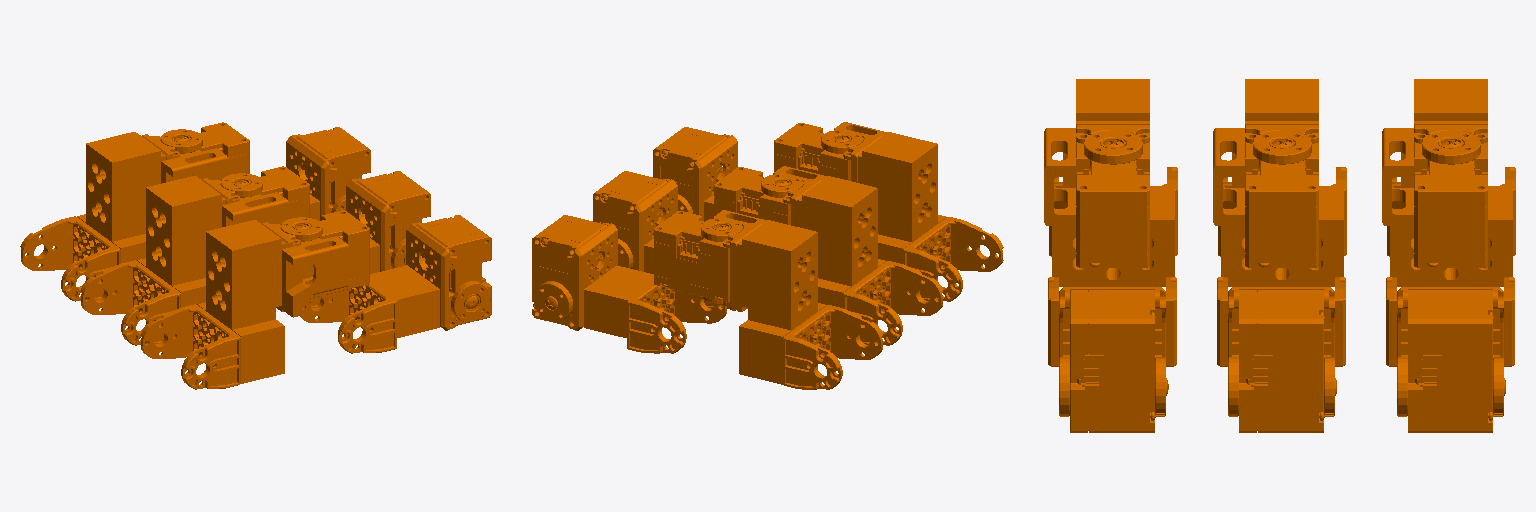
The robot description file, URDF, robot "onshape":
<robot name="onshape">
  <link name="palm_lower">
    <inertial>
      <origin xyz="0.0 0.0 0.0" rpy="0.0 -0.0 0.0"/>
      <mass value="0.237"/>
      <inertia ixx="0.000354094" ixy="-1.193e-06" ixz="-2.445e-06" iyy="0.000260915" iyz="-2.905e-06" izz="0.000529257"/>
    </inertial>
    <visual>
      <geometry>
        <mesh filename="../assets/leap/leap_hand/palm_lower.stl"/>
      </geometry>
      <origin xyz="-0.020095249652862544 0.025757756134899473 -0.034722403578460216" rpy="0.0 -0.0 0.0"/>
      <material name="palm_lower_material">
        <color rgba="0.6039215686274509 0.14901960784313725 0.14901960784313725 1.0"/>
      </material>
    </visual>
    <collision>
      <geometry>
        <mesh filename="../assets/leap/leap_hand/palm_lower.stl"/>
      </geometry>
      <origin xyz="-0.020095249652862544 0.025757756134899473 -0.034722403578460216" rpy="0.0 -0.0 0.0"/>
    </collision>
  </link>
  <link name="mcp_joint_long">
    <inertial>
      <origin xyz="0.0 0.0 0.0" rpy="0.0 -0.0 0.0"/>
      <mass value="0.044"/>
      <inertia ixx="1.1499e-05" ixy="3.049e-06" ixz="1.21e-07" iyy="7.796e-06" iyz="1.12e-07" izz="1.4759e-05"/>
    </inertial>
    <visual>
      <geometry>
        <mesh filename="custom_models/mcp_joint_long.stl"/>
      </geometry>
      <origin xyz="0.008406902261174496 0.0077662438597169954 0.014657354985032912" rpy="1.6375789613221e-15 -1.021047330249102e-30 1.7177968783327987e-31"/>
      <material name="mcp_joint_material">
        <color rgba="0.878 0.467 0.0 1.0"/>
      </material>
    </visual>
    <collision>
      <geometry>
        <mesh filename="custom_models/mcp_joint_long.stl"/>
      </geometry>
      <origin xyz="0.008406902261174496 0.0077662438597169954 0.014657354985032912" rpy="1.6375789613221e-15 -1.021047330249102e-30 1.7177968783327987e-31"/>
    </collision>
  </link>
  <link name="pip">
    <inertial>
      <origin xyz="0.0 0.0 0.0" rpy="0.0 -0.0 0.0"/>
      <mass value="0.032"/>
      <inertia ixx="4.798e-06" ixy="1.2e-08" ixz="4e-09" iyy="2.862e-06" iyz="1.1e-08" izz="4.234e-06"/>
    </inertial>
    <visual>
      <geometry>
        <mesh filename="../assets/leap/leap_hand/pip.stl"/>
      </geometry>
      <origin xyz="0.009643363092271328 0.0002999999999999895 0.0007840340104173765" rpy="-1.5707963267948966 -1.5707963267948963 0.0"/>
      <material name="pip_material">
        <color rgba="0.7490196078431373 0.7490196078431373 0.7490196078431373 1.0"/>
      </material>
    </visual>
    <collision>
      <geometry>
        <mesh filename="../assets/leap/leap_hand/pip.stl"/>
      </geometry>
      <origin xyz="0.009643363092271328 0.0002999999999999895 0.0007840340104173765" rpy="-1.5707963267948966 -1.5707963267948963 0.0"/>
    </collision>
  </link>
  <link name="dip_long">
    <inertial>
      <origin xyz="0.0 0.0 0.0" rpy="0.0 -0.0 0.0"/>
      <mass value="0.037"/>
      <inertia ixx="5.542e-06" ixy="-6.07e-07" ixz="-1.7e-08" iyy="5.727e-06" iyz="-2.3e-08" izz="6.682e-06"/>
    </inertial>
    <visual>
      <geometry>
        <mesh filename="custom_models/dip_long.stl"/>
      </geometry>
      <origin xyz="0.021133352895225003 -0.00843211914670488 0.00978508816209524" rpy="-3.141592653589793 4.507511124216441e-32 4.439548105392361e-32"/>
      <material name="dip_material">
        <color rgba="0.878 0.467 0.0 1.0"/>
      </material>
    </visual>
    <collision>
      <geometry>
        <mesh filename="custom_models/dip_long.stl"/>
      </geometry>
      <origin xyz="0.021133352895225003 -0.00843211914670488 0.00978508816209524" rpy="-3.141592653589793 4.507511124216441e-32 4.439548105392361e-32"/>
    </collision>
  </link>
  <link name="fingertip">
    <inertial>
      <origin xyz="0.0 0.0 0.0" rpy="0.0 -0.0 0.0"/>
      <mass value="0.016"/>
      <inertia ixx="3.368e-06" ixy="1.15e-07" ixz="0.0" iyy="1.556e-06" iyz="0.0" izz="2.863e-06"/>
    </inertial>
    <visual>
      <geometry>
        <mesh filename="../assets/leap/leap_hand/fingertip.stl"/>
      </geometry>
      <origin xyz="0.013286424108533503 -0.006114238386541987 0.014499999999999498" rpy="3.141592653589793 1.1993117970061735e-33 4.439548105392361e-32"/>
      <material name="fingertip_material">
        <color rgba="0.8666666666666667 0.8666666666666667 0.050980392156862744 1.0"/>
      </material>
    </visual>
    <collision>
      <geometry>
        <mesh filename="../assets/leap/leap_hand/fingertip.stl"/>
      </geometry>
      <origin xyz="0.013286424108533503 -0.006114238386541987 0.014499999999999498" rpy="3.141592653589793 1.1993117970061735e-33 4.439548105392361e-32"/>
    </collision>
  </link>
  <link name="pip_4">
    <inertial>
      <origin xyz="0.0 0.0 0.0" rpy="0.0 -0.0 0.0"/>
      <mass value="0.032"/>
      <inertia ixx="4.798e-06" ixy="1.2e-08" ixz="4e-09" iyy="2.862e-06" iyz="1.1e-08" izz="4.234e-06"/>
    </inertial>
    <visual>
      <geometry>
        <mesh filename="../assets/leap/leap_hand/pip.stl"/>
      </geometry>
      <origin xyz="-0.005356636907728671 0.0002999999999999999 0.0007840340104173782" rpy="-1.5707963267948966 -1.5707963267948963 0.0"/>
      <material name="pip_material">
        <color rgba="0.7490196078431373 0.7490196078431373 0.7490196078431373 1.0"/>
      </material>
    </visual>
    <collision>
      <geometry>
        <mesh filename="../assets/leap/leap_hand/pip.stl"/>
      </geometry>
      <origin xyz="-0.005356636907728671 0.0002999999999999999 0.0007840340104173782" rpy="-1.5707963267948966 -1.5707963267948963 0.0"/>
    </collision>
  </link>
  <link name="thumb_pip">
    <inertial>
      <origin xyz="0.0 0.0 0.0" rpy="0.0 -0.0 0.0"/>
      <mass value="0.003"/>
      <inertia ixx="5.93e-07" ixy="0.0" ixz="0.0" iyy="5.49e-07" iyz="0.0" izz="2.24e-07"/>
    </inertial>
    <visual>
      <geometry>
        <mesh filename="../assets/leap/leap_hand/thumb_pip.stl"/>
      </geometry>
      <origin xyz="0.011961920770611187 -5.30825383648903e-16 -0.0158526489566642" rpy="1.5707963267948966 1.6050198443300153e-46 -3.9204996250525193e-59"/>
      <material name="thumb_pip_material">
        <color rgba="0.8666666666666667 0.8666666666666667 0.050980392156862744 1.0"/>
      </material>
    </visual>
    <collision>
      <geometry>
        <mesh filename="../assets/leap/leap_hand/thumb_pip.stl"/>
      </geometry>
      <origin xyz="0.011961920770611187 -5.30825383648903e-16 -0.0158526489566642" rpy="1.5707963267948966 1.6050198443300153e-46 -3.9204996250525193e-59"/>
    </collision>
  </link>
  <link name="thumb_dip">
    <inertial>
      <origin xyz="0.0 0.0 0.0" rpy="0.0 -0.0 0.0"/>
      <mass value="0.038"/>
      <inertia ixx="8.474e-06" ixy="2.41e-07" ixz="2.6e-08" iyy="3.841e-06" iyz="2.5e-08" izz="7.679e-06"/>
    </inertial>
    <visual>
      <geometry>
        <mesh filename="../assets/leap/leap_hand/thumb_dip.stl"/>
      </geometry>
      <origin xyz="0.043968715707239175 0.0579529529737092 -0.008628676449369476" rpy="1.94289029309401e-16 3.27515792264422e-15 1.112375852965736e-46"/>
      <material name="thumb_dip_material">
        <color rgba="0.8666666666666667 0.8666666666666667 0.050980392156862744 1.0"/>
      </material>
    </visual>
    <collision>
      <geometry>
        <mesh filename="../assets/leap/leap_hand/thumb_dip.stl"/>
      </geometry>
      <origin xyz="0.043968715707239175 0.0579529529737092 -0.008628676449369476" rpy="1.94289029309401e-16 3.27515792264422e-15 1.112375852965736e-46"/>
    </collision>
  </link>
  <link name="thumb_fingertip">
    <inertial>
      <origin xyz="0.0 0.0 0.0" rpy="0.0 -0.0 0.0"/>
      <mass value="0.049"/>
      <inertia ixx="2.0372e-05" ixy="-4.89e-07" ixz="-3e-08" iyy="4.336e-06" iyz="-9.7e-08" izz="1.9845e-05"/>
    </inertial>
    <visual>
      <geometry>
        <mesh filename="../assets/leap/leap_hand/thumb_fingertip.stl"/>
      </geometry>
      <origin xyz="0.06255953846266739 0.07845968291139699 0.048992911807332215" rpy="4.379057701015637e-47 -3.33066907387547e-16 1.2042408677791935e-46"/>
      <material name="thumb_fingertip_material">
        <color rgba="0.6039215686274509 0.14901960784313725 0.14901960784313725 1.0"/>
      </material>
    </visual>
    <collision>
      <geometry>
        <mesh filename="../assets/leap/leap_hand/thumb_fingertip.stl"/>
      </geometry>
      <origin xyz="0.06255953846266739 0.07845968291139699 0.048992911807332215" rpy="4.379057701015637e-47 -3.33066907387547e-16 1.2042408677791935e-46"/>
    </collision>
  </link>
  <link name="mcp_joint_2_long">
    <inertial>
      <origin xyz="0.0 0.0 0.0" rpy="0.0 -0.0 0.0"/>
      <mass value="0.044"/>
      <inertia ixx="1.1499e-05" ixy="3.049e-06" ixz="1.21e-07" iyy="7.796e-06" iyz="1.12e-07" izz="1.4759e-05"/>
    </inertial>
    <visual>
      <geometry>
        <mesh filename="custom_models/mcp_joint_long.stl"/>
      </geometry>
      <origin xyz="0.008406902261174496 0.0077662438597169954 0.014657354985032914" rpy="1.6375789613221e-15 -1.0076465469034e-30 2.1209300131419907e-61"/>
      <material name="mcp_joint_material">
        <color rgba="0.878 0.467 0.0 1.0"/>
      </material>
    </visual>
    <collision>
      <geometry>
        <mesh filename="custom_models/mcp_joint_long.stl"/>
      </geometry>
      <origin xyz="0.008406902261174496 0.0077662438597169954 0.014657354985032914" rpy="1.6375789613221e-15 -1.0076465469034e-30 2.1209300131419907e-61"/>
    </collision>
  </link>
  <link name="pip_2">
    <inertial>
      <origin xyz="0.0 0.0 0.0" rpy="0.0 -0.0 0.0"/>
      <mass value="0.032"/>
      <inertia ixx="4.798e-06" ixy="1.2e-08" ixz="4e-09" iyy="2.862e-06" iyz="1.1e-08" izz="4.234e-06"/>
    </inertial>
    <visual>
      <geometry>
        <mesh filename="../assets/leap/leap_hand/pip.stl"/>
      </geometry>
      <origin xyz="0.009643363092271328 0.0002999999999999947 0.0007840340104173765" rpy="-1.5707963267948966 -1.5707963267948963 0.0"/>
      <material name="pip_material">
        <color rgba="0.7490196078431373 0.7490196078431373 0.7490196078431373 1.0"/>
      </material>
    </visual>
    <collision>
      <geometry>
        <mesh filename="../assets/leap/leap_hand/pip.stl"/>
      </geometry>
      <origin xyz="0.009643363092271328 0.0002999999999999947 0.0007840340104173765" rpy="-1.5707963267948966 -1.5707963267948963 0.0"/>
    </collision>
  </link>
  <link name="dip_2_long">
    <inertial>
      <origin xyz="0.0 0.0 0.0" rpy="0.0 -0.0 0.0"/>
      <mass value="0.037"/>
      <inertia ixx="5.542e-06" ixy="-6.07e-07" ixz="-1.7e-08" iyy="5.727e-06" iyz="-2.3e-08" izz="6.682e-06"/>
    </inertial>
    <visual>
      <geometry>
        <mesh filename="custom_models/dip_long.stl"/>
      </geometry>
      <origin xyz="0.021133352895225003 -0.008432119146704865 0.009785088162095237" rpy="-3.141592653589793 2.1146933785271956e-32 1.4408183216511869e-31"/>
      <material name="dip_material">
        <color rgba="0.878 0.467 0.0 1.0"/>
      </material>
    </visual>
    <collision>
      <geometry>
        <mesh filename="custom_models/dip_long.stl"/>
      </geometry>
      <origin xyz="0.021133352895225003 -0.008432119146704865 0.009785088162095237" rpy="-3.141592653589793 2.1146933785271956e-32 1.4408183216511869e-31"/>
    </collision>
  </link>
  <link name="fingertip_2">
    <inertial>
      <origin xyz="0.0 0.0 0.0" rpy="0.0 -0.0 0.0"/>
      <mass value="0.016"/>
      <inertia ixx="3.368e-06" ixy="1.15e-07" ixz="0.0" iyy="1.556e-06" iyz="0.0" izz="2.863e-06"/>
    </inertial>
    <visual>
      <geometry>
        <mesh filename="../assets/leap/leap_hand/fingertip.stl"/>
      </geometry>
      <origin xyz="0.013286424108533496 -0.006114238386542001 0.014499999999999496" rpy="3.141592653589793 -4.317959788283594e-33 1.4408183216511869e-31"/>
      <material name="fingertip_material">
        <color rgba="0.8666666666666667 0.8666666666666667 0.050980392156862744 1.0"/>
      </material>
    </visual>
    <collision>
      <geometry>
        <mesh filename="../assets/leap/leap_hand/fingertip.stl"/>
      </geometry>
      <origin xyz="0.013286424108533496 -0.006114238386542001 0.014499999999999496" rpy="3.141592653589793 -4.317959788283594e-33 1.4408183216511869e-31"/>
    </collision>
  </link>
  <link name="mcp_joint_3_long">
    <inertial>
      <origin xyz="0.0 0.0 0.0" rpy="0.0 -0.0 0.0"/>
      <mass value="0.044"/>
      <inertia ixx="1.1499e-05" ixy="3.049e-06" ixz="1.21e-07" iyy="7.796e-06" iyz="1.12e-07" izz="1.4759e-05"/>
    </inertial>
    <visual>
      <geometry>
        <mesh filename="custom_models/mcp_joint_long.stl"/>
      </geometry>
      <origin xyz="0.0084069022611745 0.007766243859716996 0.014657354985032914" rpy="1.6375789613221e-15 -1.0059504988632627e-30 5.729641584552035e-32"/>
      <material name="mcp_joint_material">
        <color rgba="0.878 0.467 0.0 1.0"/>
      </material>
    </visual>
    <collision>
      <geometry>
        <mesh filename="custom_models/mcp_joint_long.stl"/>
      </geometry>
      <origin xyz="0.0084069022611745 0.007766243859716996 0.014657354985032914" rpy="1.6375789613221e-15 -1.0059504988632627e-30 5.729641584552035e-32"/>
    </collision>
  </link>
  <link name="pip_3">
    <inertial>
      <origin xyz="0.0 0.0 0.0" rpy="0.0 -0.0 0.0"/>
      <mass value="0.032"/>
      <inertia ixx="4.798e-06" ixy="1.2e-08" ixz="4e-09" iyy="2.862e-06" iyz="1.1e-08" izz="4.234e-06"/>
    </inertial>
    <visual>
      <geometry>
        <mesh filename="../assets/leap/leap_hand/pip.stl"/>
      </geometry>
      <origin xyz="0.009643363092271331 0.00029999999999998084 0.0007840340104173765" rpy="-1.5707963267948966 -1.5707963267948963 0.0"/>
      <material name="pip_material">
        <color rgba="0.7490196078431373 0.7490196078431373 0.7490196078431373 1.0"/>
      </material>
    </visual>
    <collision>
      <geometry>
        <mesh filename="../assets/leap/leap_hand/pip.stl"/>
      </geometry>
      <origin xyz="0.009643363092271331 0.00029999999999998084 0.0007840340104173765" rpy="-1.5707963267948966 -1.5707963267948963 0.0"/>
    </collision>
  </link>
  <link name="dip_3_long">
    <inertial>
      <origin xyz="0.0 0.0 0.0" rpy="0.0 -0.0 0.0"/>
      <mass value="0.037"/>
      <inertia ixx="5.542e-06" ixy="-6.07e-07" ixz="-1.7e-08" iyy="5.727e-06" iyz="-2.3e-08" izz="6.682e-06"/>
    </inertial>
    <visual>
      <geometry>
        <mesh filename="custom_models/dip_long.stl"/>
      </geometry>
      <origin xyz="0.021133352895225006 -0.008432119146704865 0.009785088162095237" rpy="-3.141592653589793 -1.4095651113919093e-33 1.5565411607615035e-32"/>
      <material name="dip_material">
        <color rgba="0.878 0.467 0.0 1.0"/>
      </material>
    </visual>
    <collision>
      <geometry>
        <mesh filename="custom_models/dip_long.stl"/>
      </geometry>
      <origin xyz="0.021133352895225006 -0.008432119146704865 0.009785088162095237" rpy="-3.141592653589793 -1.4095651113919093e-33 1.5565411607615035e-32"/>
    </collision>
  </link>
  <link name="fingertip_3">
    <inertial>
      <origin xyz="0.0 0.0 0.0" rpy="0.0 -0.0 0.0"/>
      <mass value="0.016"/>
      <inertia ixx="3.368e-06" ixy="1.15e-07" ixz="0.0" iyy="1.556e-06" iyz="0.0" izz="2.863e-06"/>
    </inertial>
    <visual>
      <geometry>
        <mesh filename="../assets/leap/leap_hand/fingertip.stl"/>
      </geometry>
      <origin xyz="0.013286424108533501 -0.006114238386541987 0.0144999999999995" rpy="3.141592653589793 8.61707169505754e-33 1.5565411607615035e-32"/>
      <material name="fingertip_material">
        <color rgba="0.8666666666666667 0.8666666666666667 0.050980392156862744 1.0"/>
      </material>
    </visual>
    <collision>
      <geometry>
        <mesh filename="../assets/leap/leap_hand/fingertip.stl"/>
      </geometry>
      <origin xyz="0.013286424108533501 -0.006114238386541987 0.0144999999999995" rpy="3.141592653589793 8.61707169505754e-33 1.5565411607615035e-32"/>
    </collision>
  </link>
  <joint name="1" type="revolute">
    <parent link="palm_lower"/>
    <child link="mcp_joint_long"/>
    <origin xyz="-0.007095249652862546 0.023057756134899472 -0.01872240357846022" rpy="1.570796326794895 1.5707963267948946 0.0"/>
    <axis xyz="0.0 0.0 -1.0"/>
    <limit effort="0.95" velocity="8.48" lower="-0.314" upper="2.23"/>
  </joint>
  <joint name="0" type="revolute">
    <parent link="mcp_joint_long"/>
    <child link="pip"/>
    <origin xyz="-0.012200000000000007713 0.053099999999999994982 0.014500000000000000736" rpy="-1.5707963267948966 -1.0065212660796337e-15 1.5707963267948943"/>
    <axis xyz="0.0 0.0 -1.0"/>
    <limit effort="0.95" velocity="8.48" lower="-1.047" upper="1.047"/>
  </joint>
  <joint name="2" type="revolute">
    <parent link="pip"/>
    <child link="dip_long"/>
    <origin xyz="0.014999999999999968 0.014299999999999905 -0.012999999999999824" rpy="1.570796326794896 -1.5707963267948963 0.0"/>
    <axis xyz="0.0 0.0 -1.0"/>
    <limit effort="0.95" velocity="8.48" lower="-0.506" upper="1.885"/>
  </joint>
  <joint name="3" type="revolute">
    <parent link="dip_long"/>
    <child link="fingertip"/>
    <origin xyz="-4.0880582495572692636e-09 -0.051100004210367367397 0.00020000000000007858714" rpy="4.5935029425113685e-17 -2.8730071914463795e-16 4.439548105392361e-32"/>
    <axis xyz="0.0 0.0 -1.0"/>
    <limit effort="0.95" velocity="8.48" lower="-0.366" upper="2.042"/>
  </joint>
  <joint name="12" type="revolute">
    <parent link="palm_lower"/>
    <child link="pip_4"/>
    <origin xyz="-0.06939524965286253 -0.0012422438651005258 -0.021622403578460216" rpy="-8.238176646493942e-17 1.5707963267948957 0.0"/>
    <axis xyz="0.0 0.0 -1.0"/>
    <limit effort="0.95" velocity="8.48" lower="-0.349" upper="2.094"/>
  </joint>
  <joint name="13" type="revolute">
    <parent link="pip_4"/>
    <child link="thumb_pip"/>
    <origin xyz="-2.7755575615628914e-17 0.014300000000000005 -0.013000000000000012" rpy="1.570796326794896 -1.5707963267948963 0.0"/>
    <axis xyz="0.0 0.0 -1.0"/>
    <limit effort="0.95" velocity="8.48" lower="-0.47" upper="2.443"/>
  </joint>
  <joint name="14" type="revolute">
    <parent link="thumb_pip"/>
    <child link="thumb_dip"/>
    <origin xyz="0.0 0.014499999999999966 -0.017000000000000053" rpy="-1.5707963267948966 1.6050198443300131e-46 -1.9721522630516625e-31"/>
    <axis xyz="0.0 0.0 -1.0"/>
    <limit effort="0.95" velocity="8.48" lower="-1.2" upper="1.9"/>
  </joint>
  <joint name="15" type="revolute">
    <parent link="thumb_dip"/>
    <child link="thumb_fingertip"/>
    <origin xyz="-1.249000902703301e-16 0.046599999999999864 0.0001999999999999771" rpy="1.506395849149178e-44 5.423418723393526e-31 3.141592653589793"/>
    <axis xyz="0.0 0.0 -1.0"/>
    <limit effort="0.95" velocity="8.48" lower="-1.34" upper="1.88"/>
  </joint>
  <joint name="5" type="revolute">
    <parent link="palm_lower"/>
    <child link="mcp_joint_2_long"/>
    <origin xyz="-0.007095249652862546 -0.022392243865100525 -0.01872240357846022" rpy="1.570796326794895 1.5707963267948946 0.0"/>
    <axis xyz="0.0 0.0 -1.0"/>
    <limit effort="0.95" velocity="8.48" lower="-0.314" upper="2.23"/>
  </joint>
  <joint name="4" type="revolute">
    <parent link="mcp_joint_2_long"/>
    <child link="pip_2"/>
    <origin xyz="-0.012200000000000007713 0.053099999999999994982 0.014500000000000000736" rpy="-1.5707963267948966 -1.0065212660796337e-15 1.5707963267948943"/>
    <axis xyz="0.0 0.0 -1.0"/>
    <limit effort="0.95" velocity="8.48" lower="-1.047" upper="1.047"/>
  </joint>
  <joint name="6" type="revolute">
    <parent link="pip_2"/>
    <child link="dip_2_long"/>
    <origin xyz="0.014999999999999968 0.014299999999999905 -0.012999999999999824" rpy="1.570796326794896 -1.5707963267948963 0.0"/>
    <axis xyz="0.0 0.0 -1.0"/>
    <limit effort="0.95" velocity="8.48" lower="-0.506" upper="1.885"/>
  </joint>
  <joint name="7" type="revolute">
    <parent link="dip_2_long"/>
    <child link="fingertip_2"/>
    <origin xyz="-4.0880582495572692636e-09 -0.051100004210367367397 0.00020000000000007858714" rpy="4.5935029425113685e-17 -2.8730071914463795e-16 4.439548105392361e-32"/>
    <axis xyz="0.0 0.0 -1.0"/>
    <limit effort="0.95" velocity="8.48" lower="-0.366" upper="2.042"/>
  </joint>
  <joint name="9" type="revolute">
    <parent link="palm_lower"/>
    <child link="mcp_joint_3_long"/>
    <origin xyz="-0.007095249652862546 -0.06784224386510052 -0.01872240357846022" rpy="1.570796326794895 1.5707963267948946 0.0"/>
    <axis xyz="0.0 0.0 -1.0"/>
    <limit effort="0.95" velocity="8.48" lower="-0.314" upper="2.23"/>
  </joint>
  <joint name="8" type="revolute">
    <parent link="mcp_joint_3_long"/>
    <child link="pip_3"/>
    <origin xyz="-0.012200000000000007713 0.053099999999999994982 0.014500000000000000736" rpy="-1.5707963267948966 -1.0065212660796337e-15 1.5707963267948943"/>
    <axis xyz="0.0 0.0 -1.0"/>
    <limit effort="0.95" velocity="8.48" lower="-1.047" upper="1.047"/>
  </joint>
  <joint name="10" type="revolute">
    <parent link="pip_3"/>
    <child link="dip_3_long"/>
    <origin xyz="0.014999999999999968 0.014299999999999905 -0.012999999999999824" rpy="1.570796326794896 -1.5707963267948963 0.0"/>
    <axis xyz="0.0 0.0 -1.0"/>
    <limit effort="0.95" velocity="8.48" lower="-0.506" upper="1.885"/>
  </joint>
  <joint name="11" type="revolute">
    <parent link="dip_3_long"/>
    <child link="fingertip_3"/>
    <origin xyz="-4.0880582495572692636e-09 -0.051100004210367367397 0.00020000000000007858714" rpy="4.5935029425113685e-17 -2.8730071914463795e-16 4.439548105392361e-32"/>
    <axis xyz="0.0 0.0 -1.0"/>
    <limit effort="0.95" velocity="8.48" lower="-0.366" upper="2.042"/>
  </joint>
</robot>

--- Facts derived from the render (not from the file) ---
3 views of the same robot in one strip: view 1: azimuth 30°, elevation 25°; view 2: azimuth 150°, elevation 25°; view 3: azimuth 270°, elevation 25° (orthographic).
Robot: onshape — 17 links, 16 joints (16 revolute); root link palm_lower; default pose: every joint at zero.
Visible links, largest first — view 1: mcp_joint_3_long, mcp_joint_2_long, mcp_joint_long, dip_3_long, dip_2_long, dip_long; view 2: mcp_joint_long, mcp_joint_3_long, mcp_joint_2_long, dip_long, dip_2_long, dip_3_long; view 3: mcp_joint_2_long, mcp_joint_3_long, mcp_joint_long, dip_3_long, dip_long, dip_2_long.
Link boxes in pixels (left/top/right/bottom): mcp_joint_3_long: left=141, top=210, right=369, bottom=389; mcp_joint_2_long: left=81, top=166, right=309, bottom=345; mcp_joint_long: left=20, top=122, right=249, bottom=301; dip_3_long: left=299, top=215, right=491, bottom=353; dip_2_long: left=311, top=171, right=430, bottom=307; dip_long: left=286, top=127, right=370, bottom=220; mcp_joint_long: left=654, top=210, right=882, bottom=389; mcp_joint_3_long: left=774, top=122, right=1003, bottom=301; mcp_joint_2_long: left=714, top=166, right=942, bottom=345; dip_long: left=532, top=215, right=726, bottom=353; dip_2_long: left=593, top=171, right=729, bottom=308; dip_3_long: left=653, top=127, right=737, bottom=221; mcp_joint_2_long: left=1213, top=79, right=1346, bottom=286; mcp_joint_3_long: left=1044, top=79, right=1177, bottom=286; mcp_joint_long: left=1382, top=79, right=1515, bottom=286; dip_3_long: left=1048, top=277, right=1176, bottom=432; dip_long: left=1386, top=277, right=1514, bottom=432; dip_2_long: left=1217, top=277, right=1345, bottom=432.
Bounding box of the posed robot: 0.1371 × 0.1267 × 0.0538 m (x, y, z).
6 mesh visuals loaded from 8 distinct referenced files (2 binary STL); not drawn: 11 (reference not matched to a file when rendering).